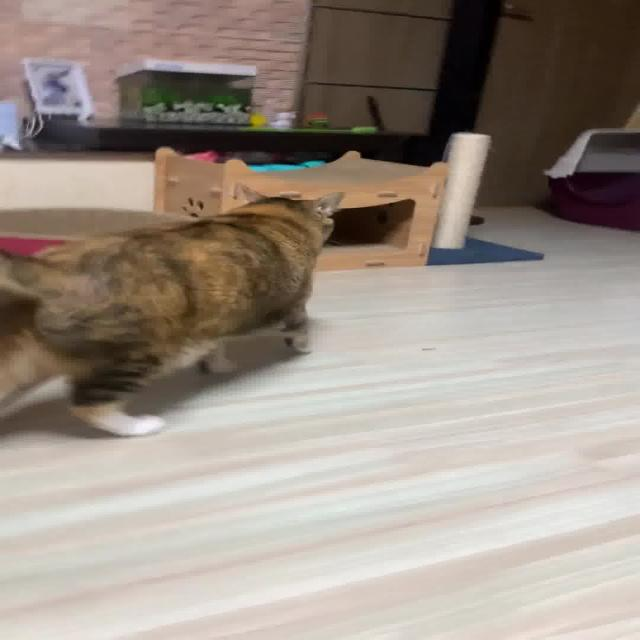cat: (0, 181, 333, 441)
